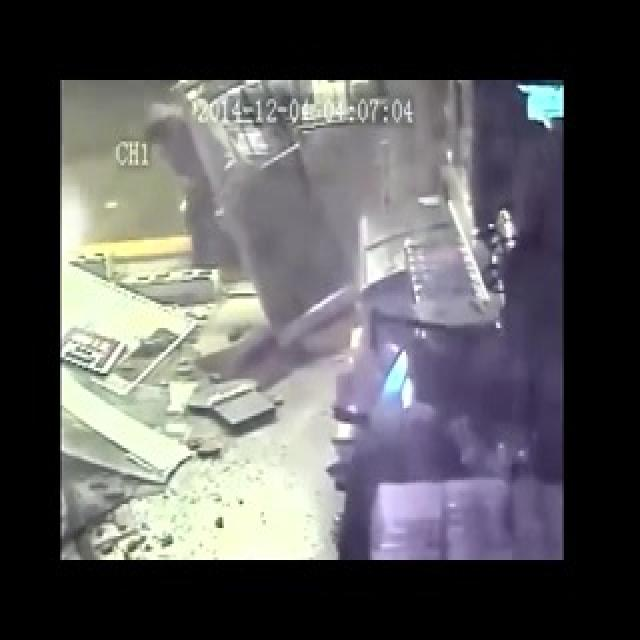burglary: (85, 111, 272, 475)
